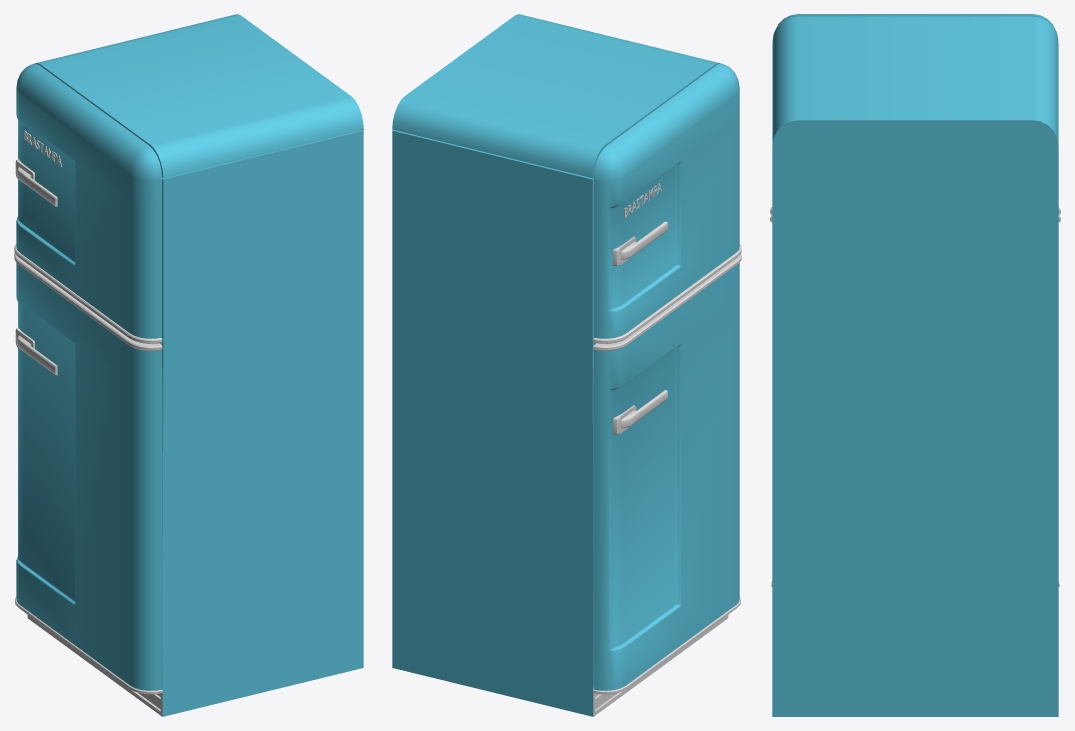
Rendered from Geladeira.fbx.
The picture shows the model from 3 angles, left to right: view 1: azimuth 30°, elevation 25°; view 2: azimuth 150°, elevation 25°; view 3: azimuth 270°, elevation 25°; orthographic projection. The views are drawn at different scales.
Visible parts, largest first — view 1: Cube; view 2: Cube; view 3: Cube.
Part boxes in pixels (x1,y1,x2,y2): Cube: [14, 14, 363, 716]; Cube: [392, 14, 741, 716]; Cube: [770, 14, 1060, 716].
Bounding box in the file's own units: 87.87 × 210 × 92.8.
